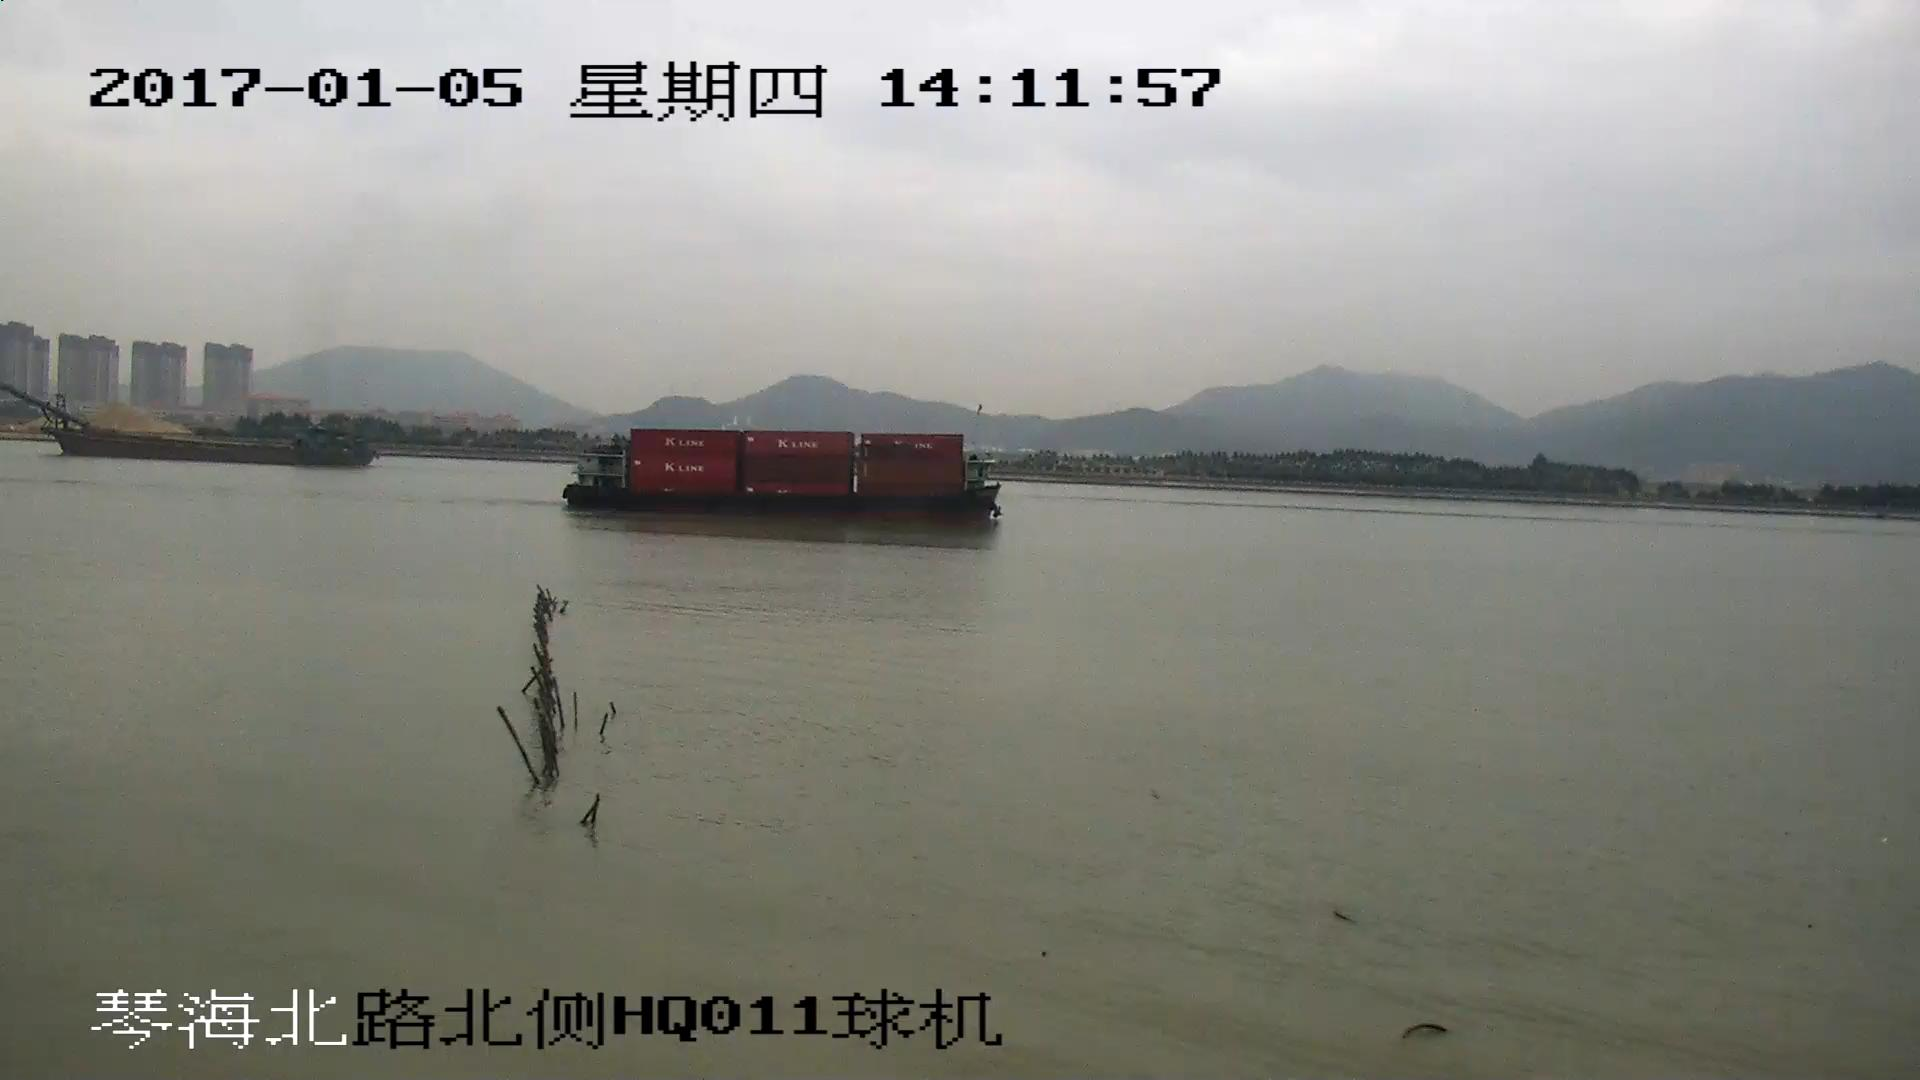bulk cargo carrier: (1, 386, 372, 471)
container ship: (561, 427, 1003, 524)
